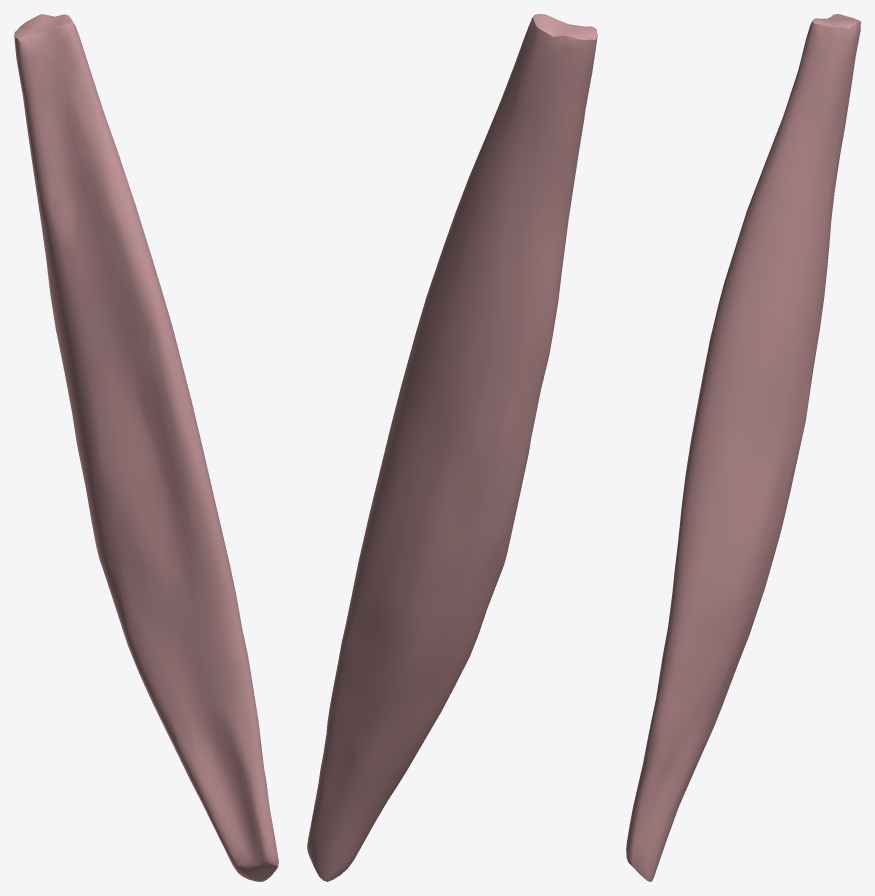
The model's file is fma297630_mm1866m.glb.
3 views of the same model, side by side, from view 1: azimuth 30°, elevation 25°; view 2: azimuth 210°, elevation 25°; view 3: azimuth 270°, elevation 25° (orthographic). The views are drawn at different scales.
Parts seen in each view (by area): view 1: FMA297630_MM1866M; view 2: FMA297630_MM1866M; view 3: FMA297630_MM1866M.
Part boxes in pixels (x1,y1,x2,y2): FMA297630_MM1866M: (14,14,278,881); FMA297630_MM1866M: (307,14,597,881); FMA297630_MM1866M: (626,14,860,881).
Bounding box in the file's own units: 0.0295 × 0.1471 × 0.0387.
